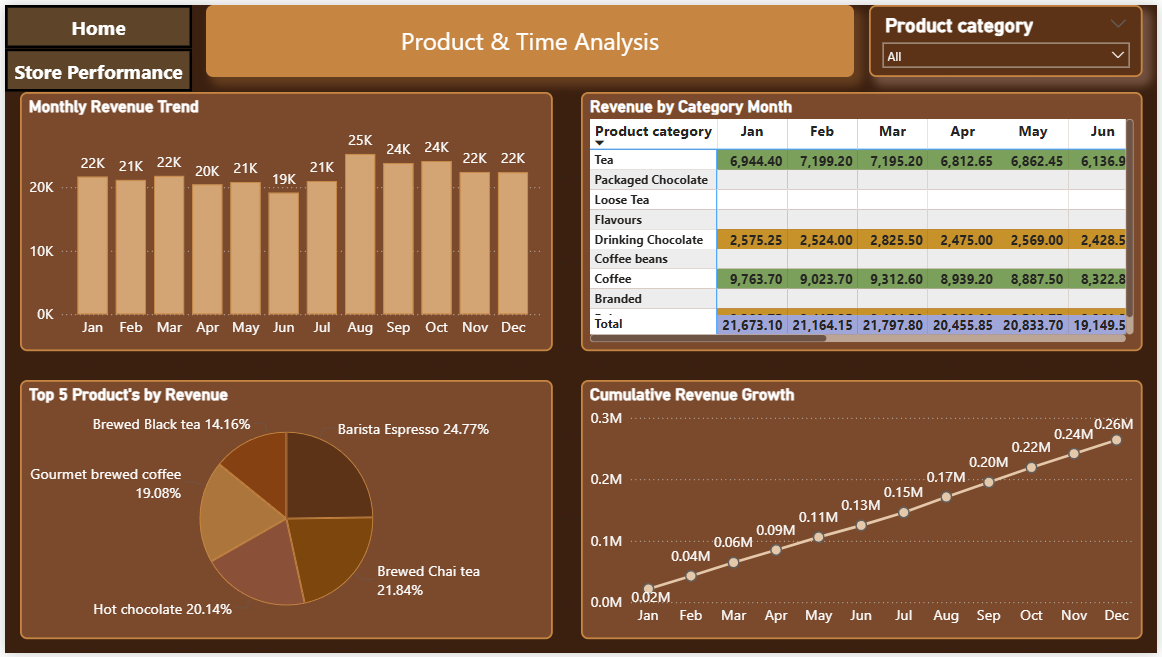

Layout of this report page (visuals, bound fields, positions):
{"tool":"powerbi","page":{"name":"Products and Time Analysis","canvas":[1280,720],"ordinal":2},"visuals":[{"type":"textbox","box":[224,0,720,80],"z":0},{"type":"clusteredColumnChart","fields":{"Category":["Date_Table.Month Name"],"Y":["other_Measures.Dynamic KPI"]},"box":[16,96,592,288],"z":1000},{"type":"pivotTable","title":"Revenue by Category  Month","fields":{"Rows":["Coffee_shop_sales.Product category"],"Columns":["Date_Table.Month Name"],"Values":["KPI_Measures.Total Revenue"]},"box":[640,96,624,288],"z":2000},{"type":"pieChart","fields":{"Category":["Coffee_shop_sales.Product Type"],"Y":["other_Measures.Dynamic KPI"]},"box":[16,416,592,288],"z":3000},{"type":"lineChart","title":"Cumulative Revenue Growth","fields":{"Category":["Date_Table.Month Name"],"Y":["other_Measures.Running Total Revenue"]},"box":[640,416,624,288],"z":4000},{"type":"slicer","fields":{"Values":["Coffee_shop_sales.Product category"]},"box":[960,0,304,80],"z":5000},{"type":"actionButton","box":[0,0,208,48],"z":9000},{"type":"actionButton","box":[0,48,208,48],"z":10000}]}

Visuals, with their boxes in screenshot pixels (x1, y1, x2, y2), scaled from the page's 1280x720 canvas onto the 1162x657 screenshot:
textbox: {"left": 203, "top": 0, "right": 857, "bottom": 73}
clusteredColumnChart - Date_Table.Month Name x other_Measures.Dynamic KPI: {"left": 15, "top": 88, "right": 552, "bottom": 350}
"Revenue by Category  Month" pivotTable: {"left": 581, "top": 88, "right": 1147, "bottom": 350}
pieChart - Coffee_shop_sales.Product Type x other_Measures.Dynamic KPI: {"left": 15, "top": 380, "right": 552, "bottom": 642}
"Cumulative Revenue Growth" lineChart: {"left": 581, "top": 380, "right": 1147, "bottom": 642}
slicer - Coffee_shop_sales.Product category: {"left": 872, "top": 0, "right": 1147, "bottom": 73}
actionButton: {"left": 0, "top": 0, "right": 189, "bottom": 44}
actionButton: {"left": 0, "top": 44, "right": 189, "bottom": 88}
